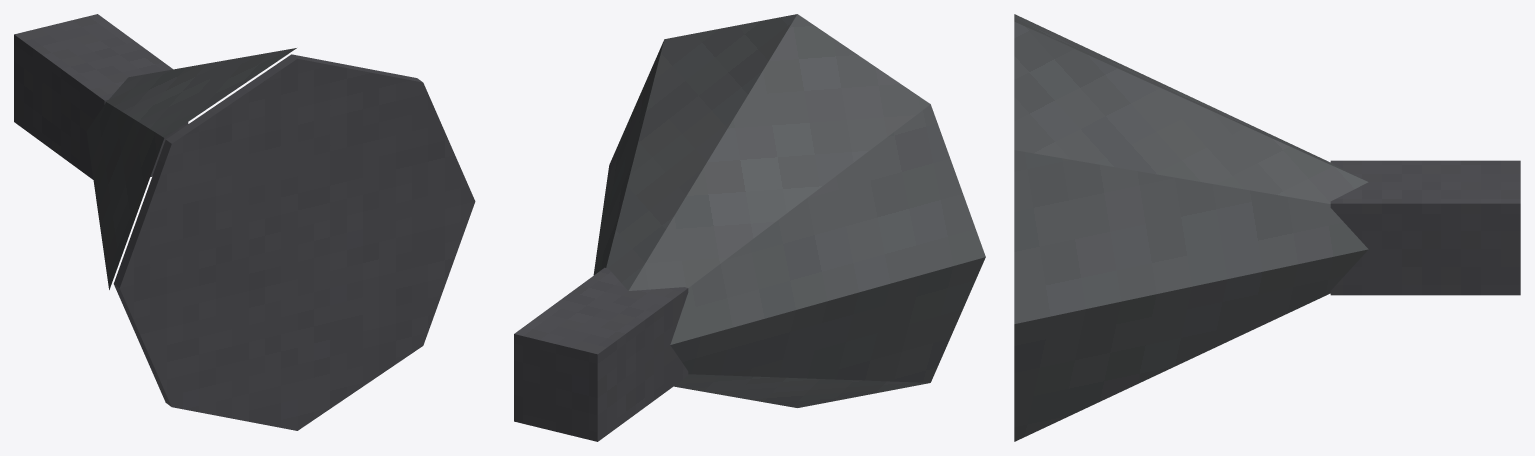
Rendered from int_pa_speaker.glb.
3 renders of one model, left to right at view 1: azimuth 30°, elevation 25°; view 2: azimuth 150°, elevation 25°; view 3: azimuth 270°, elevation 25°, orthographic. The views are drawn at different scales.
Parts seen in each view (by area): view 1: detail; view 2: detail; view 3: detail.
Part boxes in pixels (bbox=[...]): detail: bbox=[14, 14, 475, 430]; detail: bbox=[514, 14, 985, 441]; detail: bbox=[1014, 14, 1520, 441].
Size of the model in its own units: 0.36 by 0.36 by 0.4.
Materials: 2 (2 with a texture image).
